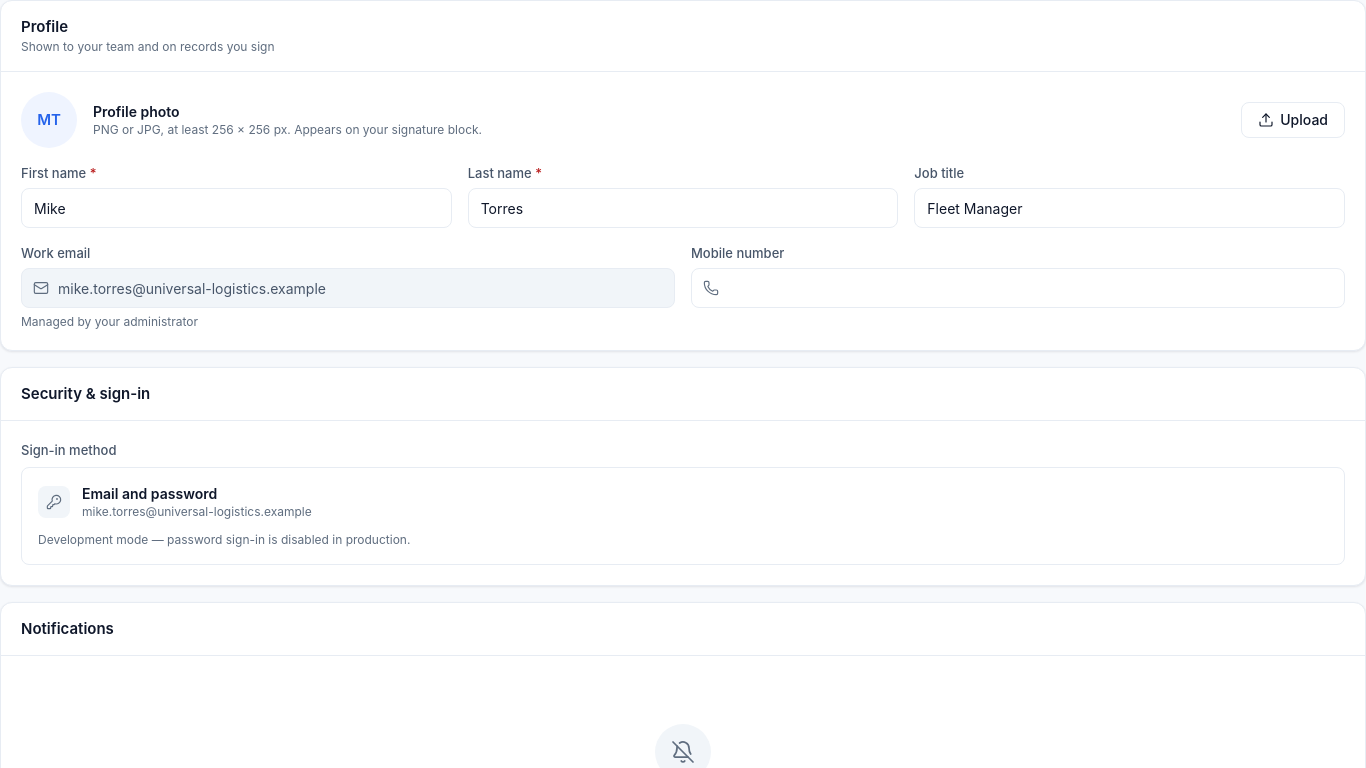
Test: W-26 — Profile card › saves name, job title and phone, toasts `Settings saved` and refreshes the topbar user
This screenshot has width=1366, height=768.
Replace the text in the field labelled "First name *" with "Michael". click: x=236, y=208
box: [21,188,452,228]
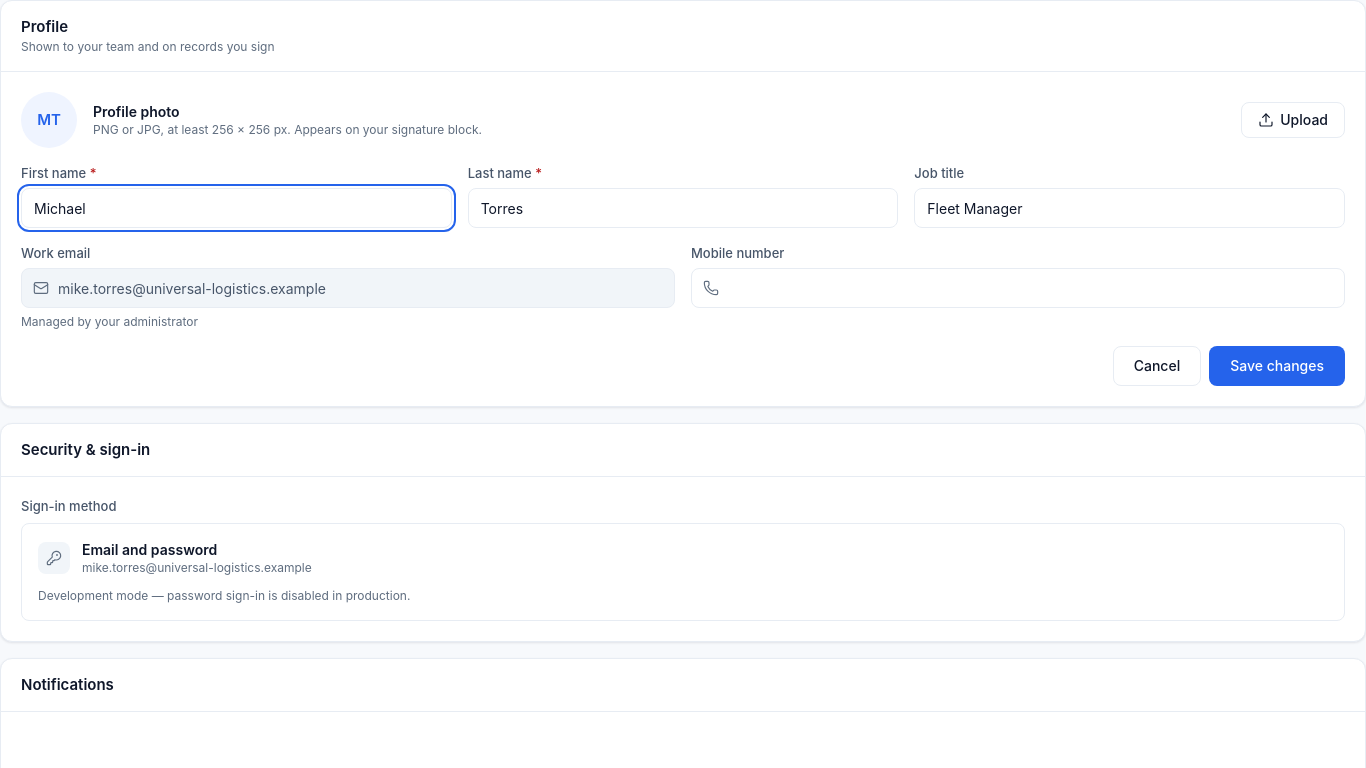
Replace the text in the field labelled "Job title" with "Head of Fleet". click: x=1130, y=208
box: [914,188,1345,228]
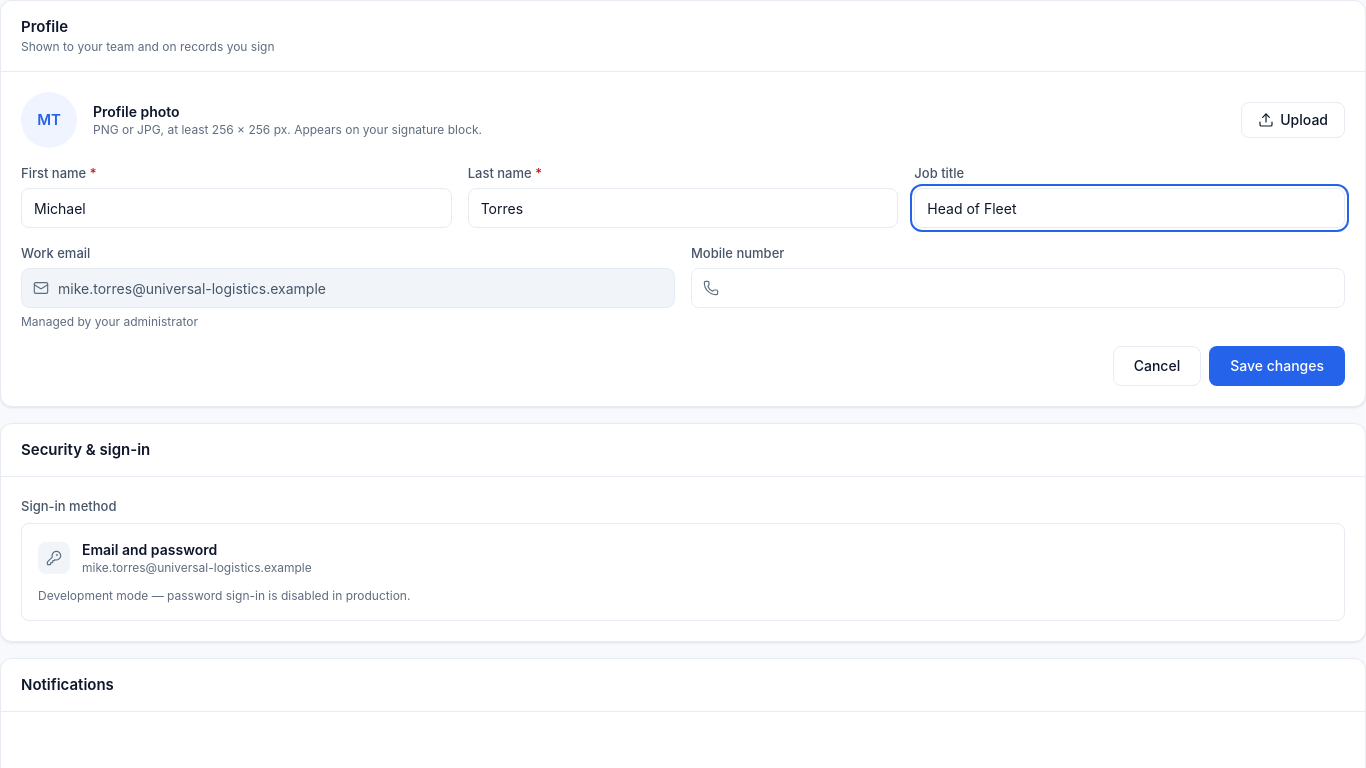
Type "+16145550104" into the field labelled "Mobile number". click: x=1018, y=288
box: [691,268,1345,308]
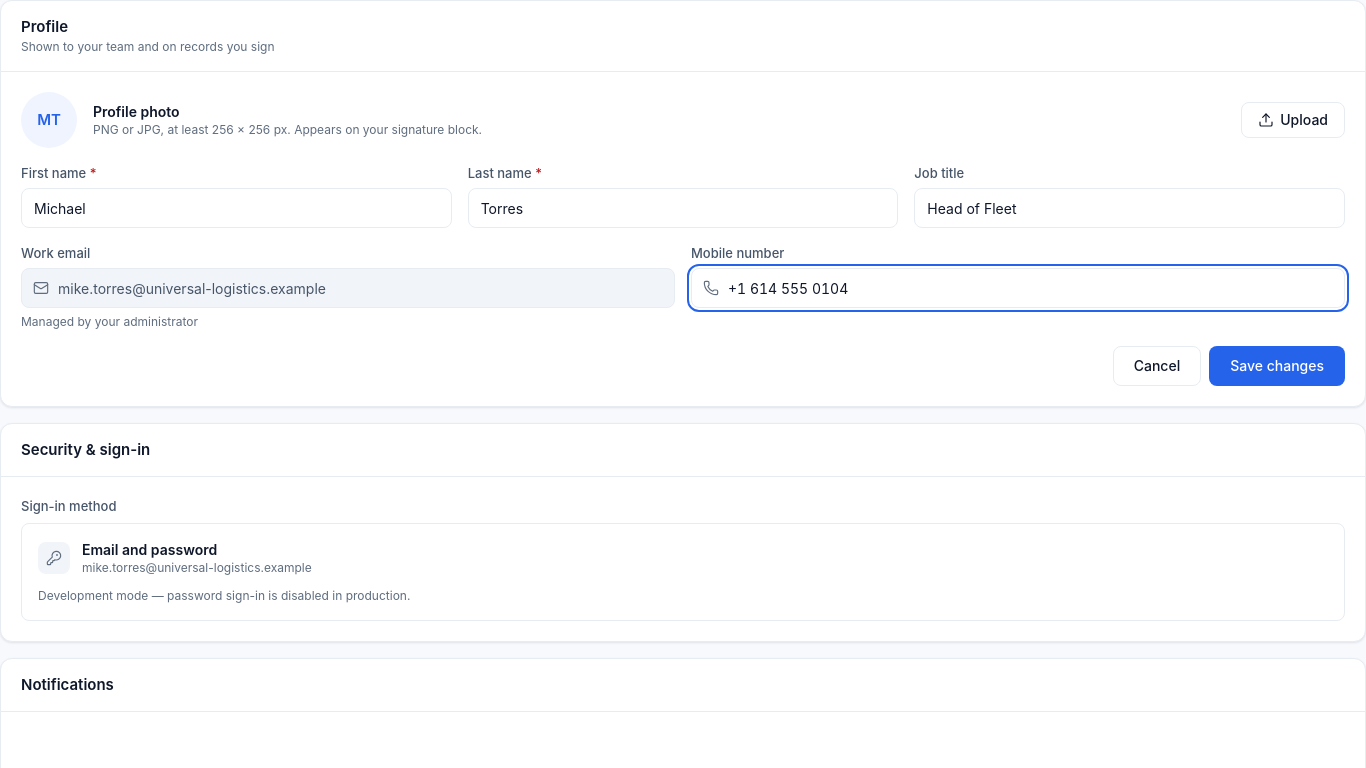
Click the button "Save changes". click: x=1277, y=366
box: [1209,346,1345,386]
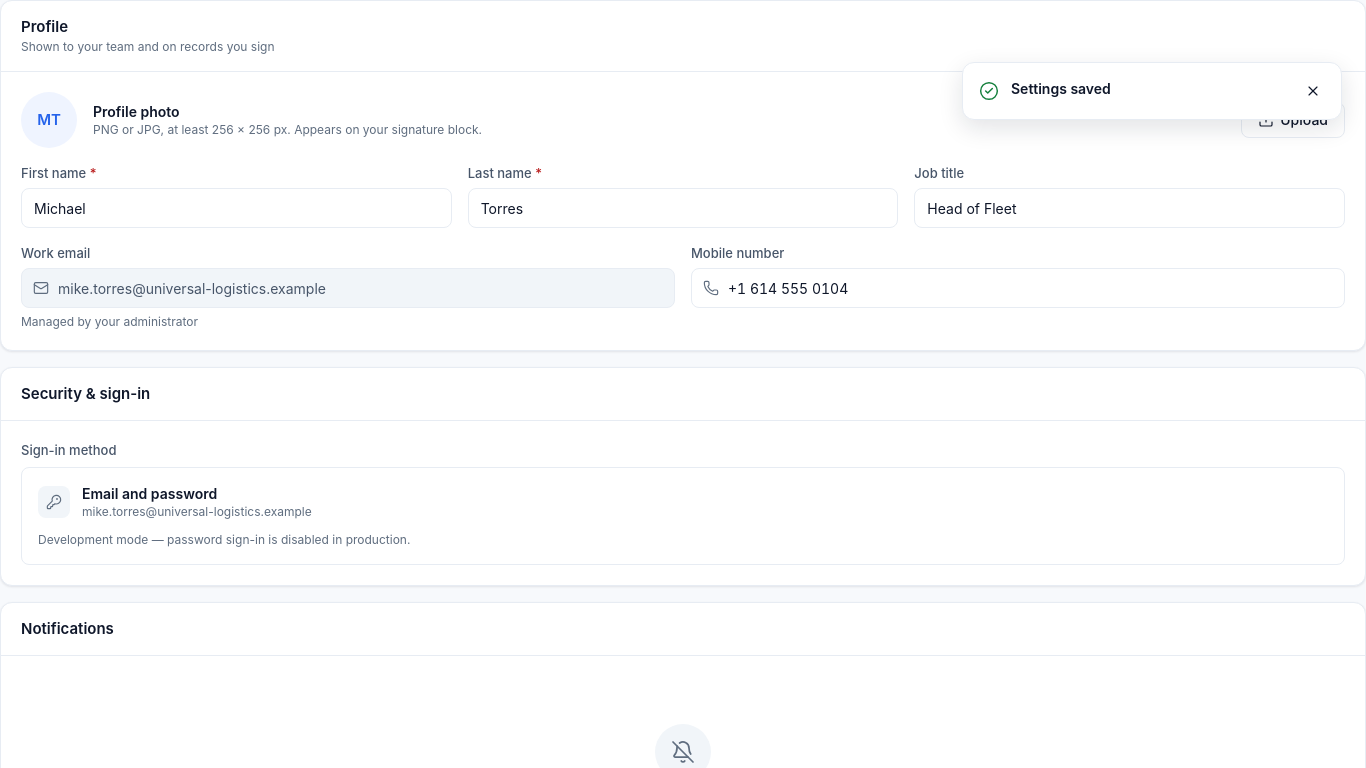
Now the text "Settings saved" is shown, box [1011,80,1111,97]
Now the button "Save changes" is gone
